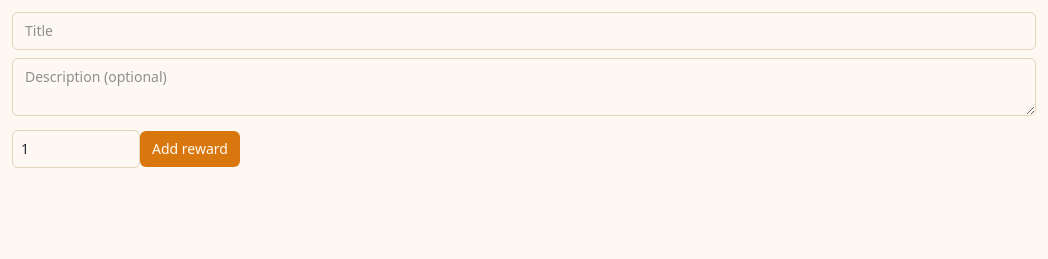
Scenario: RewardForm › shows an error message on failure
Type "x" into the field with placeholder "Title" at (524, 31), box [12,12,1036,50]
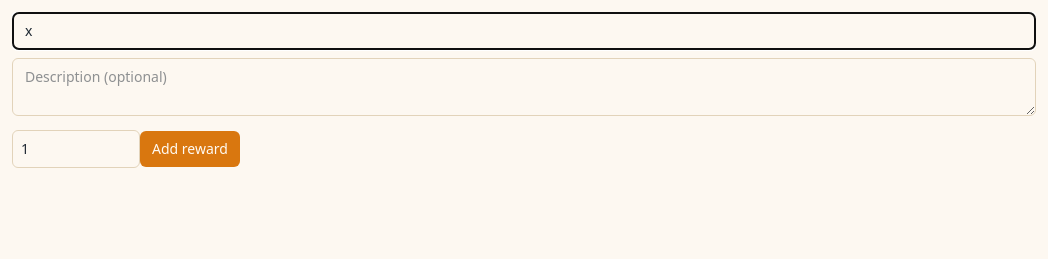
Click the button "Add reward" at (190, 149), box [140,131,240,167]
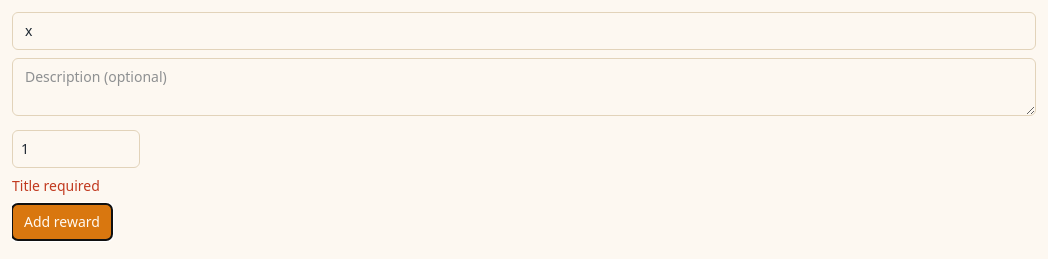
expect the message reads "Title required": met, box [12,176,100,195]
